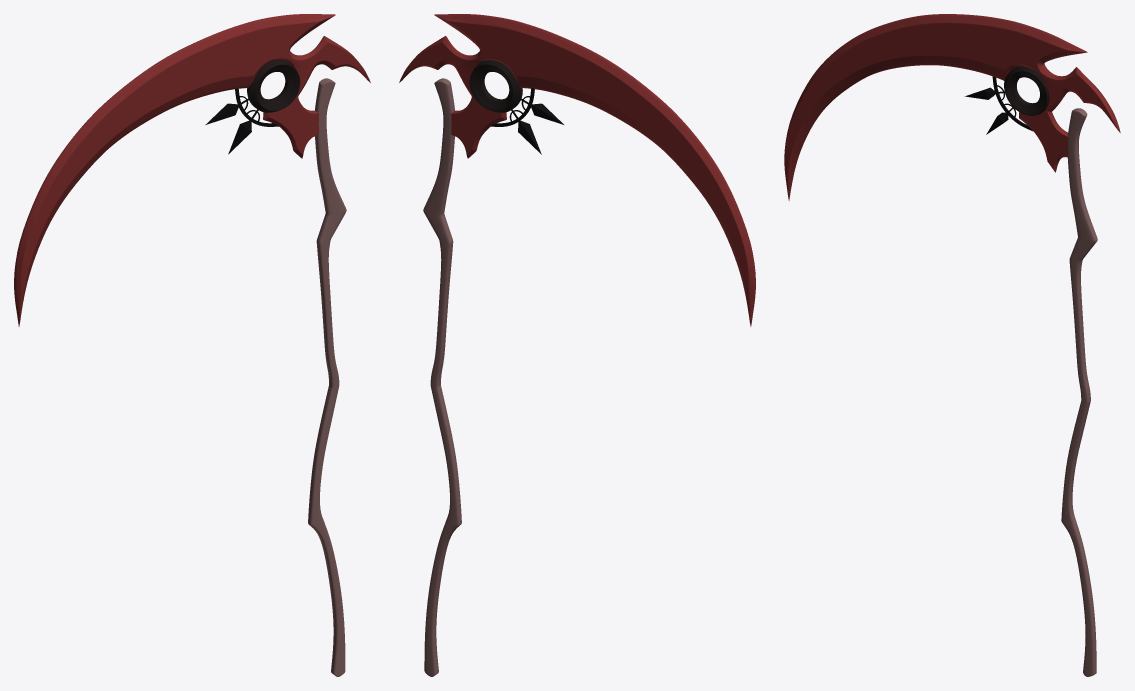
Rendered from Calliope Scythe.fbx.
The picture shows the model from 3 angles, left to right: view 1: azimuth 30°, elevation 25°; view 2: azimuth 150°, elevation 25°; view 3: azimuth 330°, elevation 25°; orthographic projection. The views are drawn at different scales.
Visible parts, largest first — view 1: Plane004, Box001, Cylinder001; view 2: Plane004, Box001, Cylinder001; view 3: Plane004, Box001, Cylinder001.
Part boxes in pixels (<box>): Plane004: <box>14,14,370,326</box>; Box001: <box>308,78,346,676</box>; Cylinder001: <box>247,60,300,112</box>; Plane004: <box>399,14,755,326</box>; Box001: <box>423,78,461,676</box>; Cylinder001: <box>469,60,522,112</box>; Plane004: <box>784,14,1120,200</box>; Box001: <box>1061,108,1097,676</box>; Cylinder001: <box>1004,66,1049,115</box>.
Bounding box in the file's own units: 56.75 × 103 × 2.09.
